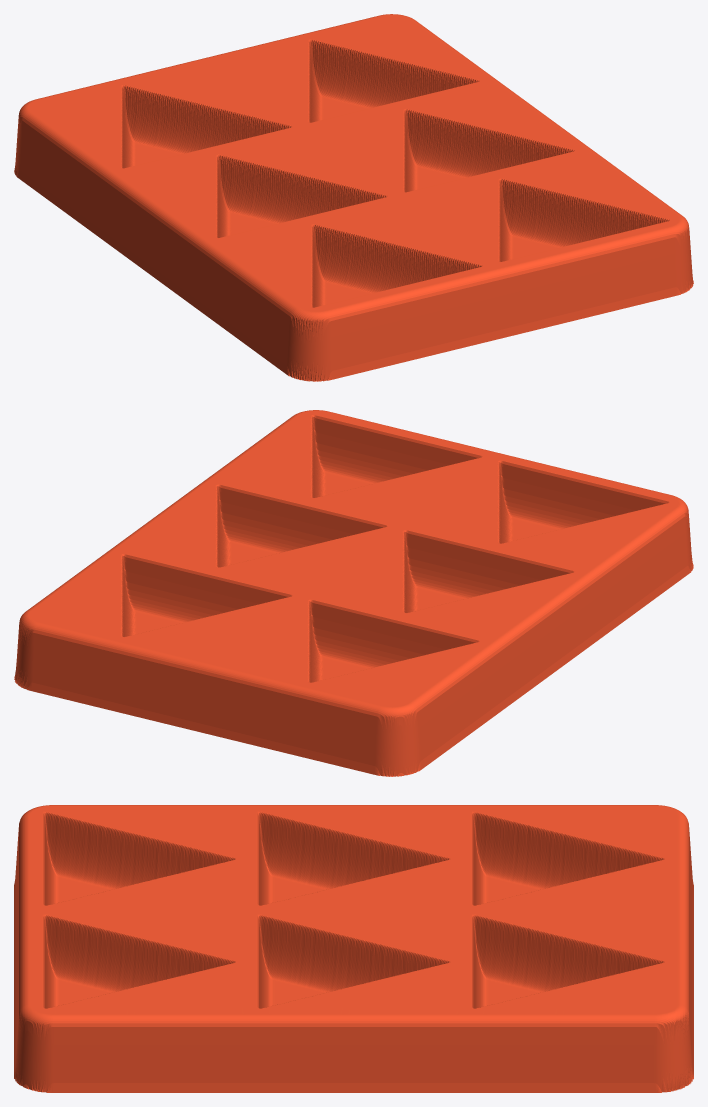
File: mold.glb
3 renders of one model, top to bottom at view 1: azimuth 30°, elevation 25°; view 2: azimuth 150°, elevation 25°; view 3: azimuth 270°, elevation 25°, orthographic. The views are drawn at different scales.
Visible parts, largest first — view 1: geometry_0; view 2: geometry_0; view 3: geometry_0.
Part boxes in pixels (x1=…): geometry_0: x1=14, y1=14, x2=693, y2=381; geometry_0: x1=14, y1=410, x2=693, y2=776; geometry_0: x1=14, y1=805, x2=693, y2=1092.
Size of the model in its own units: 0.1222 by 0.0185 by 0.1585.
